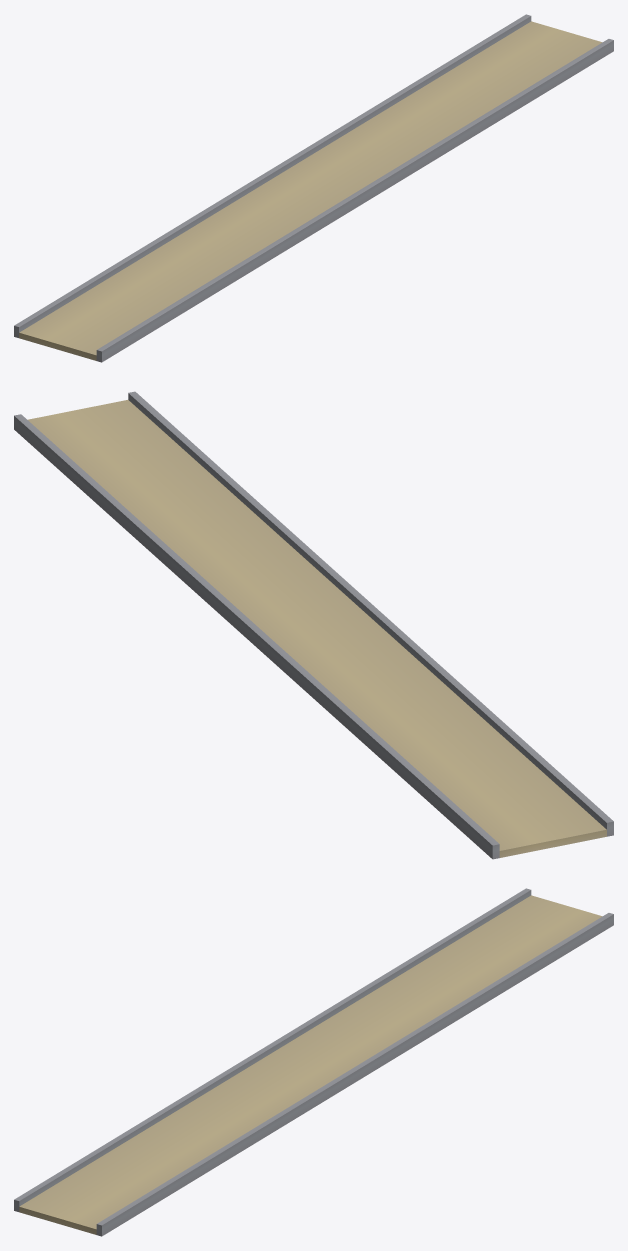
File: sidewalk_18.fbx
3 views of the same model, one above another, from view 1: azimuth 90°, elevation 25°; view 2: azimuth 150°, elevation 25°; view 3: azimuth 270°, elevation 25° (orthographic). The views are drawn at different scales.
Visible parts, largest first — view 1: sidewalk_17; view 2: sidewalk_17; view 3: sidewalk_17.
Part boxes in pixels (x1=…): sidewalk_17: x1=14, y1=14, x2=613, y2=362; sidewalk_17: x1=14, y1=391, x2=613, y2=859; sidewalk_17: x1=14, y1=888, x2=613, y2=1236.
Bounding box in the file's own units: 1.76 × 0.0271 × 1.33.
1 material, 1 textured.
